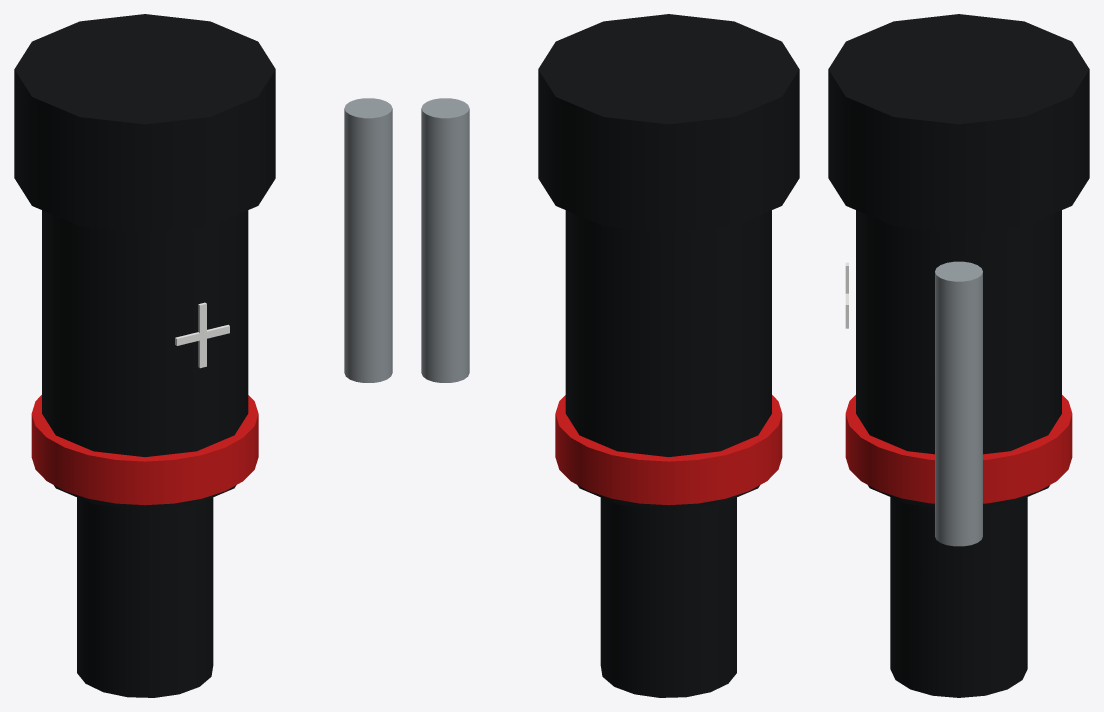
The model's file is mc4_connector_positive.glb.
The picture shows the model from 3 angles, left to right: view 1: azimuth 30°, elevation 25°; view 2: azimuth 150°, elevation 25°; view 3: azimuth 270°, elevation 25°; orthographic projection.
Parts seen in each view (by area): view 1: MC4 grip nut, MC4 connector body, MC4 mating nose, Male contact pin, Polarity seal, Label +; view 2: MC4 grip nut, MC4 connector body, MC4 mating nose, Male contact pin, Polarity seal; view 3: MC4 grip nut, MC4 connector body, MC4 mating nose, Male contact pin, Polarity seal.
Part boxes in pixels (x1=…): MC4 grip nut: x1=14, y1=14, x2=275, y2=233; MC4 connector body: x1=42, y1=210, x2=248, y2=509; MC4 mating nose: x1=77, y1=497, x2=213, y2=697; Male contact pin: x1=344, y1=98, x2=392, y2=382; Polarity seal: x1=31, y1=395, x2=258, y2=505; Label +: x1=175, y1=302, x2=229, y2=368; MC4 grip nut: x1=538, y1=14, x2=799, y2=233; MC4 connector body: x1=565, y1=210, x2=771, y2=509; MC4 mating nose: x1=600, y1=497, x2=736, y2=697; Male contact pin: x1=421, y1=98, x2=469, y2=382; Polarity seal: x1=555, y1=395, x2=782, y2=505; MC4 grip nut: x1=828, y1=14, x2=1089, y2=233; MC4 connector body: x1=856, y1=210, x2=1061, y2=507; MC4 mating nose: x1=890, y1=497, x2=1027, y2=697; Male contact pin: x1=935, y1=261, x2=982, y2=546; Polarity seal: x1=845, y1=395, x2=1072, y2=503.
Bounding box in the file's own units: 0.1199 × 0.1925 × 0.076.
